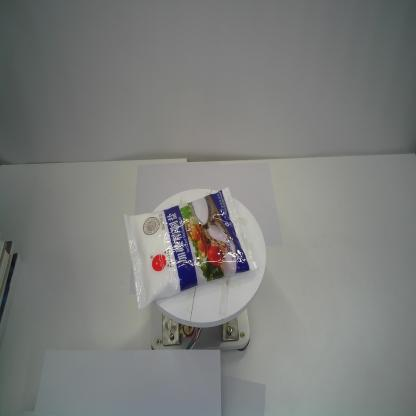Seasoner: (124, 186, 258, 310)
